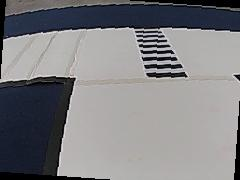CrossWalk: (131, 26, 189, 79)
